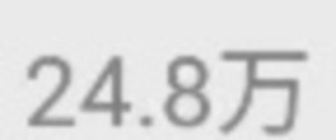TextView: (1, 1, 335, 139)
